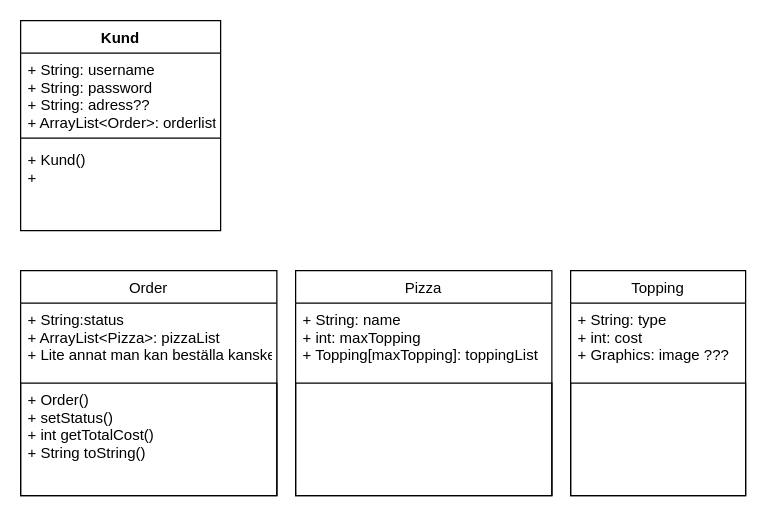
The diagram is 766 pixels wide and 516 high, and some of its shapes have lost their labels. The shapes that lost their labels are listed below. From the top down, each one's centre as x and y in pixels, then its label:
At (x=423, y=439): "+ Pizza() + int getTotalCost() + getToppingList() + String toString()".
At (x=657, y=439): "+ Topping() + draw() ??? + int getCost() +String toString()".
